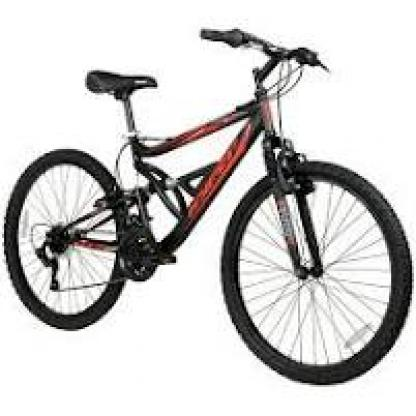Bike: (2, 21, 416, 387)
